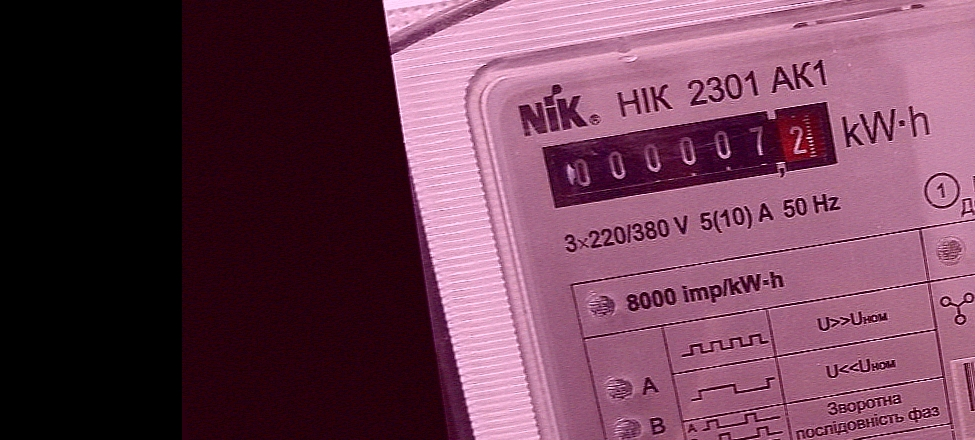0: (638, 135, 666, 176), (568, 151, 595, 189), (709, 123, 735, 162), (676, 130, 701, 170), (605, 144, 630, 181)
2: (785, 119, 811, 158)
7: (745, 119, 771, 159)
screen: (535, 91, 848, 215)
